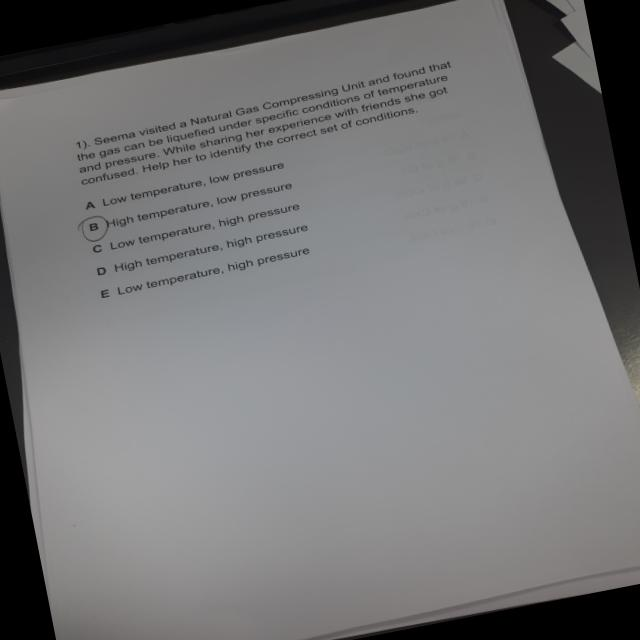B: (75, 214, 116, 246)
